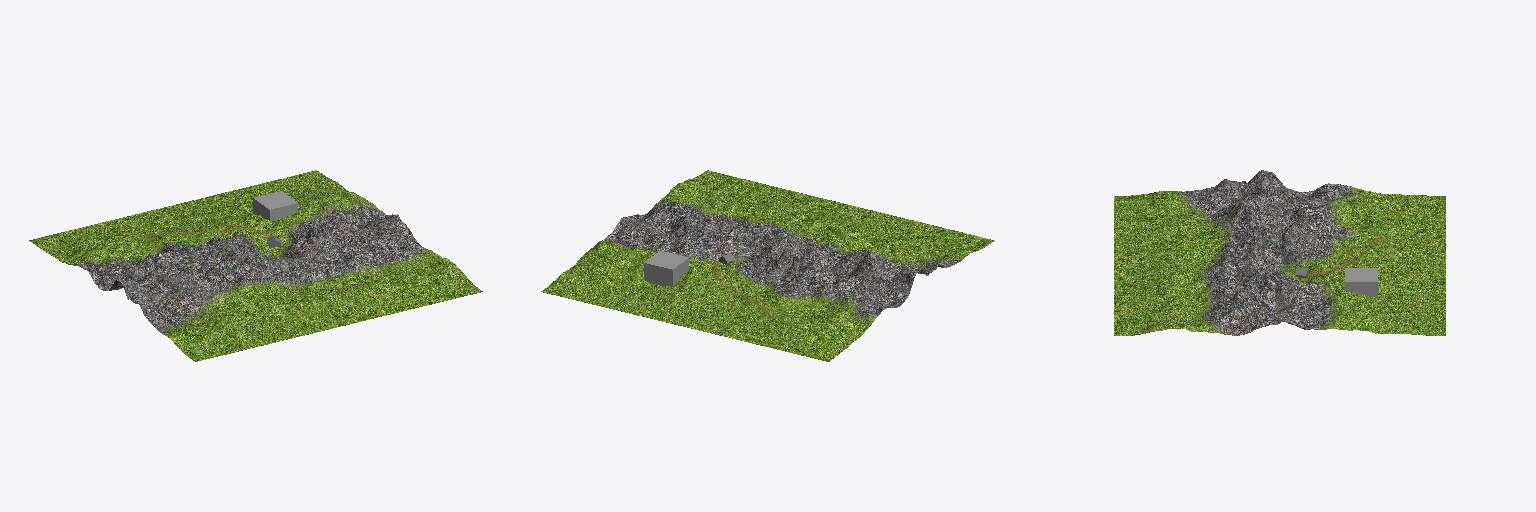
3 views of the same model, side by side, from view 1: azimuth 30°, elevation 25°; view 2: azimuth 150°, elevation 25°; view 3: azimuth 270°, elevation 25° (orthographic).
Parts seen in each view (by area): view 1: Landscape.002, Cube_Cube.001; view 2: Landscape.002, Cube_Cube.001; view 3: Landscape.002, Cube_Cube.001.
Part boxes in pixels (bbox=[...]): Landscape.002: bbox=[29, 170, 482, 361]; Cube_Cube.001: bbox=[253, 191, 297, 220]; Landscape.002: bbox=[541, 170, 994, 361]; Cube_Cube.001: bbox=[644, 251, 688, 286]; Landscape.002: bbox=[1114, 170, 1445, 335]; Cube_Cube.001: bbox=[1345, 268, 1377, 298].
Size of the model in its own units: 600 by 76.23 by 600.
4 materials, 2 textured.